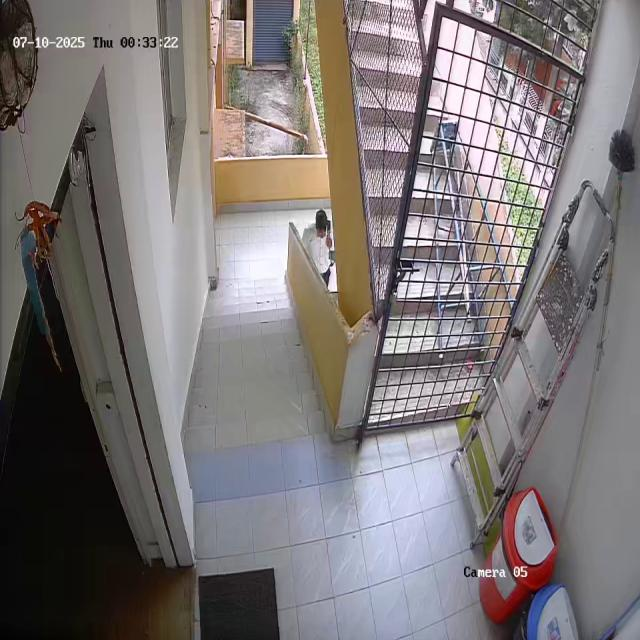person: (301, 208, 335, 280)
